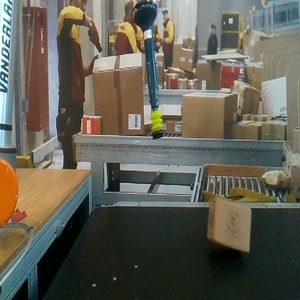box: (205, 195, 253, 255)
